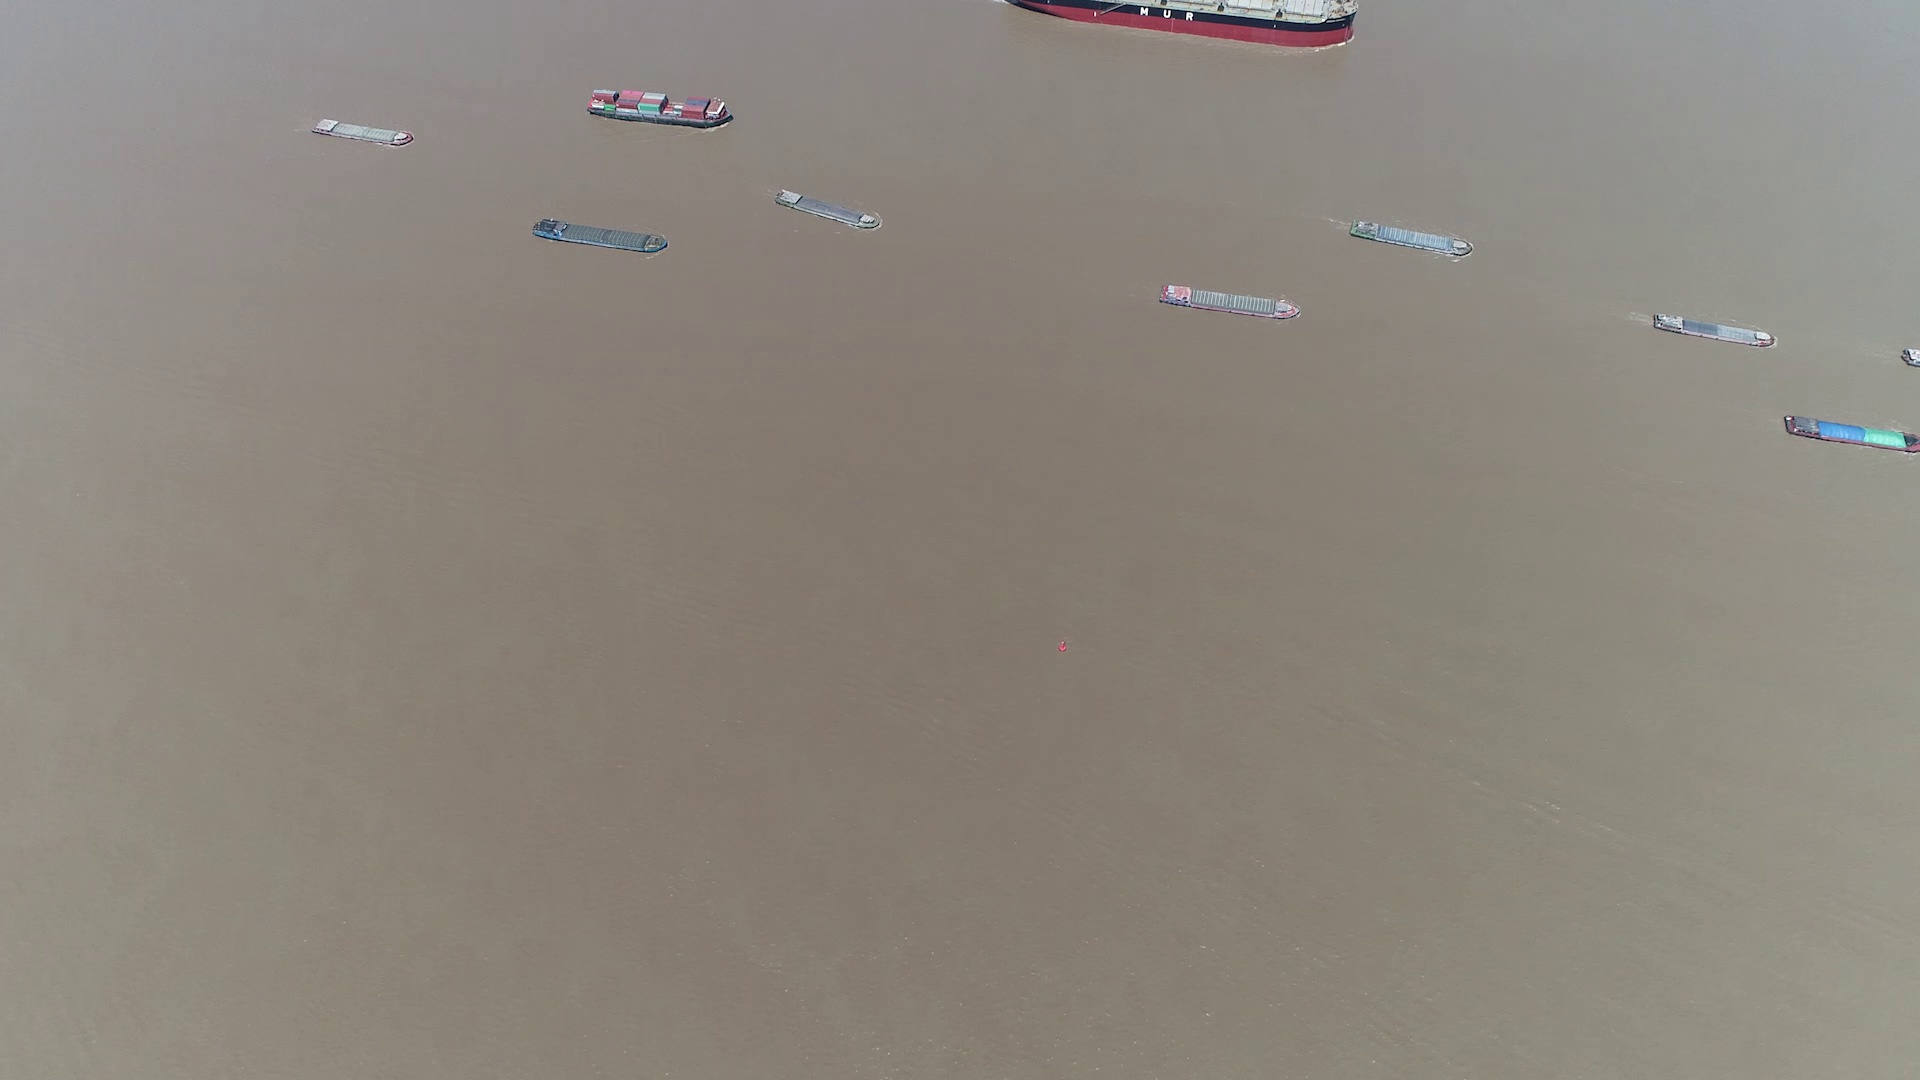ship: (1000, 0, 1356, 41), (1783, 413, 1920, 454), (588, 88, 735, 127), (1159, 282, 1300, 320), (1350, 218, 1474, 258), (531, 218, 669, 255), (1650, 313, 1774, 347), (775, 191, 880, 231), (313, 117, 414, 145)
